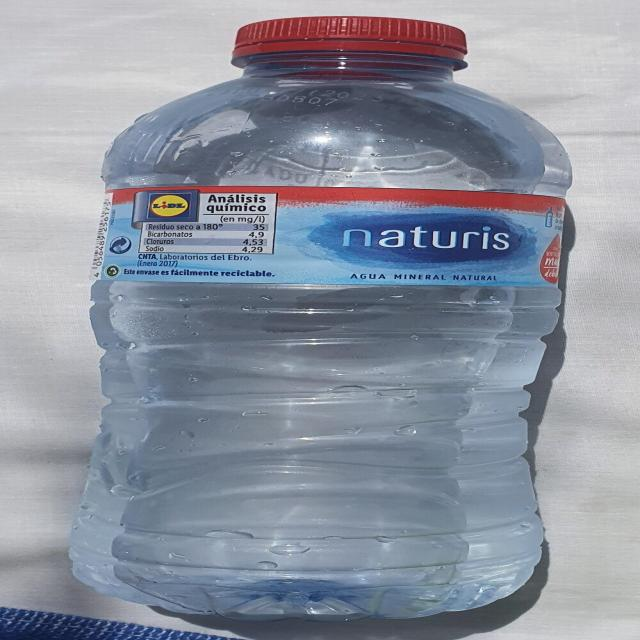bottle: (41, 5, 633, 618)
